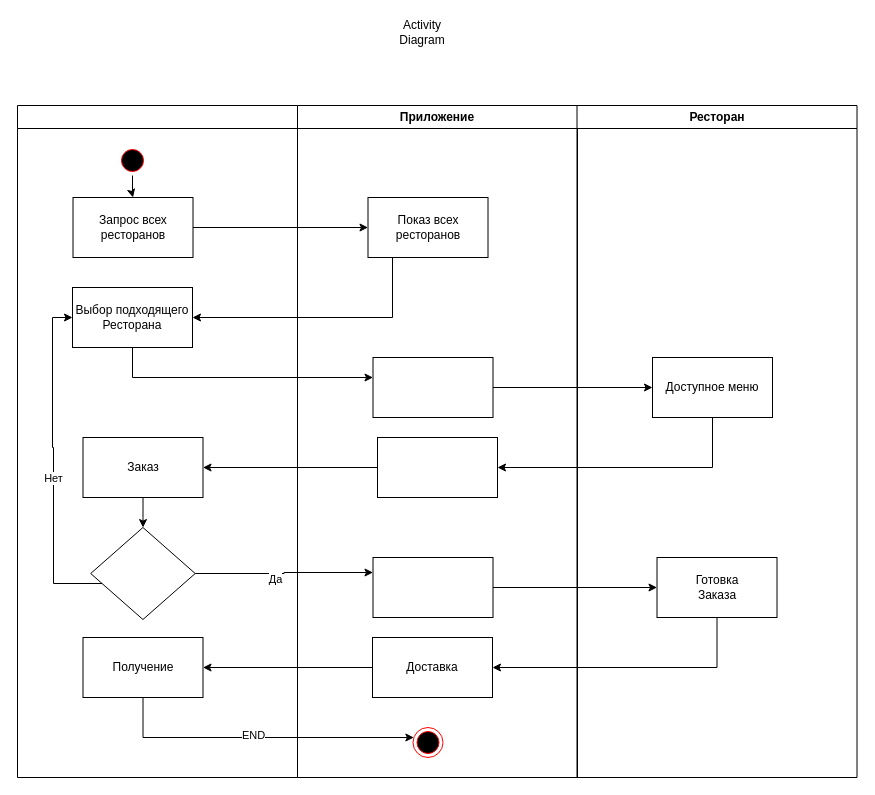
This 875x795 diagram has some shape labels left out. Each missing label, with the box of its shape:
Детальное меню: (376, 436, 498, 498)
Заказчик: (16, 104, 298, 778)
Оплата: (372, 556, 493, 618)
Подтверждение Заказа: (90, 526, 195, 620)
Проверка блюд на доступность: (372, 356, 493, 418)
